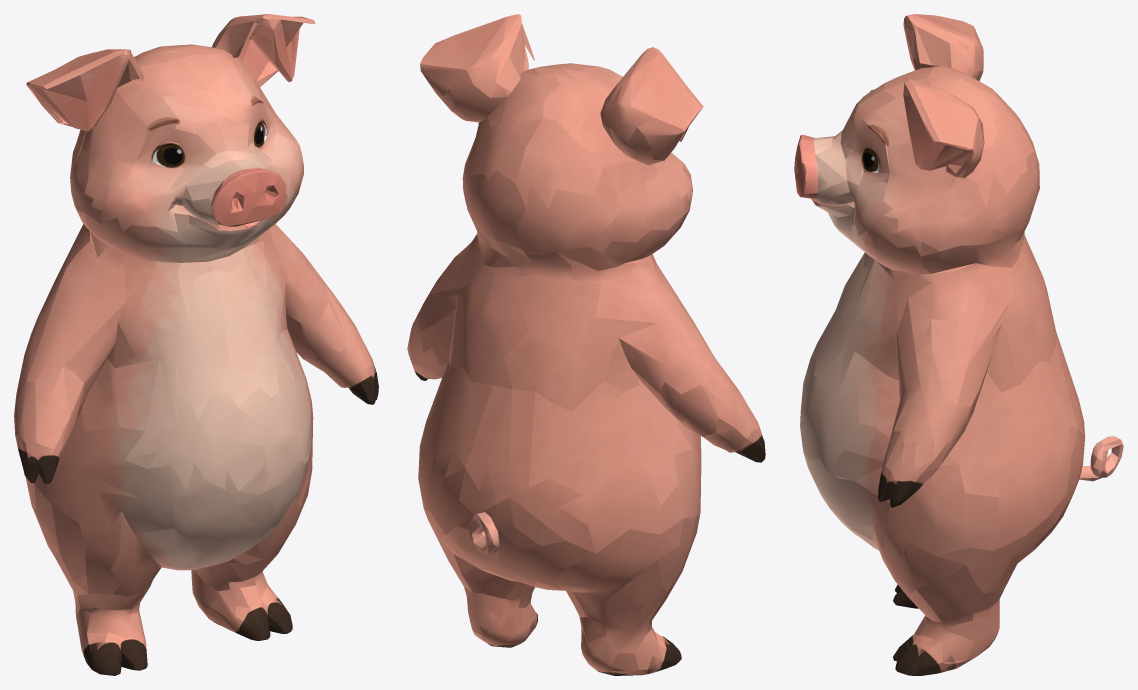
The model's file is pig.glb.
The picture shows the model from 3 angles, left to right: view 1: azimuth 30°, elevation 25°; view 2: azimuth 150°, elevation 25°; view 3: azimuth 270°, elevation 25°; orthographic projection. The views are drawn at different scales.
Parts seen in each view (by area): view 1: output_unwrapped; view 2: output_unwrapped; view 3: output_unwrapped.
Part boxes in pixels (box(x1,y1,x2,y2)): output_unwrapped: box(14, 14, 378, 675); output_unwrapped: box(407, 14, 765, 675); output_unwrapped: box(794, 14, 1123, 675).
Size of the model in its own units: 1.14 by 1.9 by 0.9729.
Materials: 1 (1 with a texture image).
